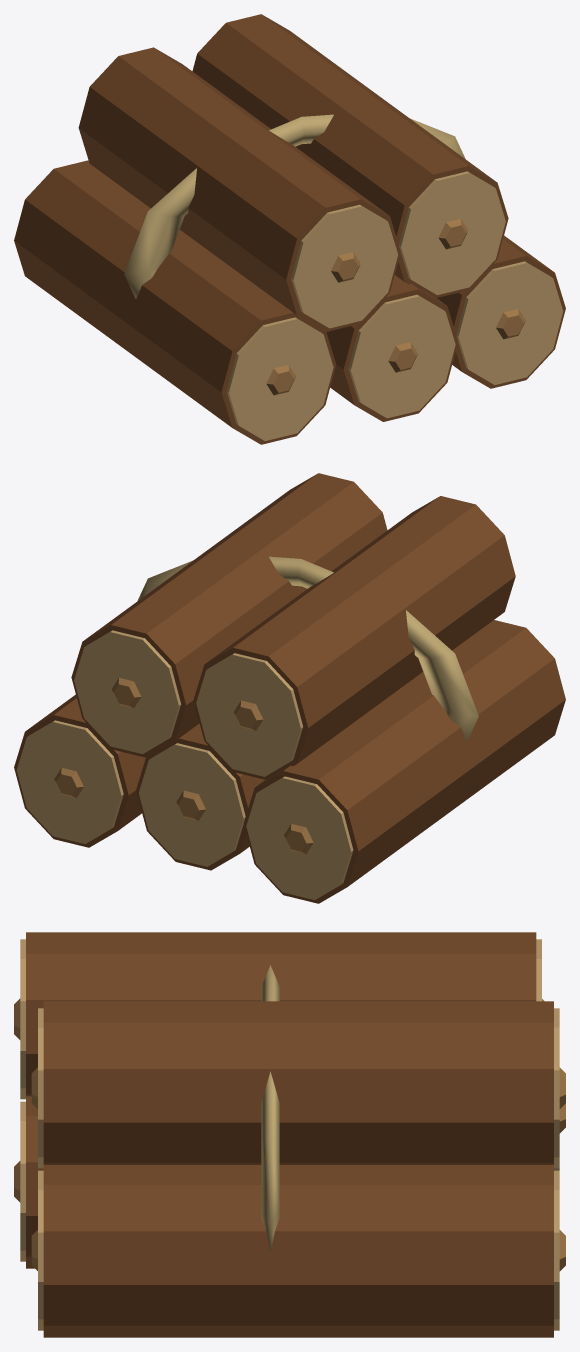
File: pile-wood-5.gltf
3 renders of one model, top to bottom at view 1: azimuth 30°, elevation 25°; view 2: azimuth 150°, elevation 25°; view 3: azimuth 270°, elevation 25°, orthographic. The views are drawn at different scales.
Visible parts, largest first — view 1: pile-wood-5; view 2: pile-wood-5; view 3: pile-wood-5.
Boxes of the visible parts, x1,y1,x2,y2 form: pile-wood-5: [14, 14, 565, 444]; pile-wood-5: [14, 473, 565, 903]; pile-wood-5: [14, 932, 565, 1337].
Bounding box in the file's own units: 0.7107 × 0.4368 × 0.779.
